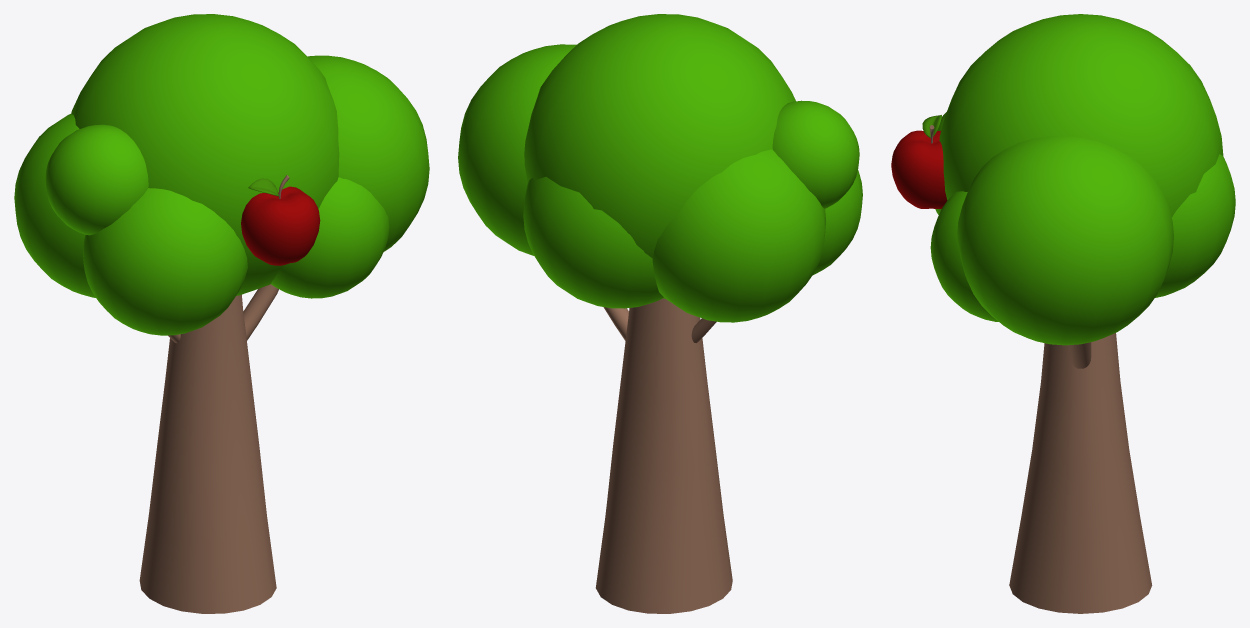
Rendered from 1apple.fbx.
3 renders of one model, left to right at view 1: azimuth 30°, elevation 25°; view 2: azimuth 150°, elevation 25°; view 3: azimuth 270°, elevation 25°, orthographic.
Visible parts, largest first — view 1: treeMesh, apple; view 2: treeMesh; view 3: treeMesh, apple.
Boxes of the visible parts, box(x1,y1,x2,y2) form: treeMesh: box(14, 14, 429, 613); apple: box(241, 175, 320, 265); treeMesh: box(458, 14, 862, 613); treeMesh: box(930, 14, 1235, 613); apple: box(891, 115, 947, 208).
Bounding box in the file's own units: 5.2 × 7.46 × 4.18.
